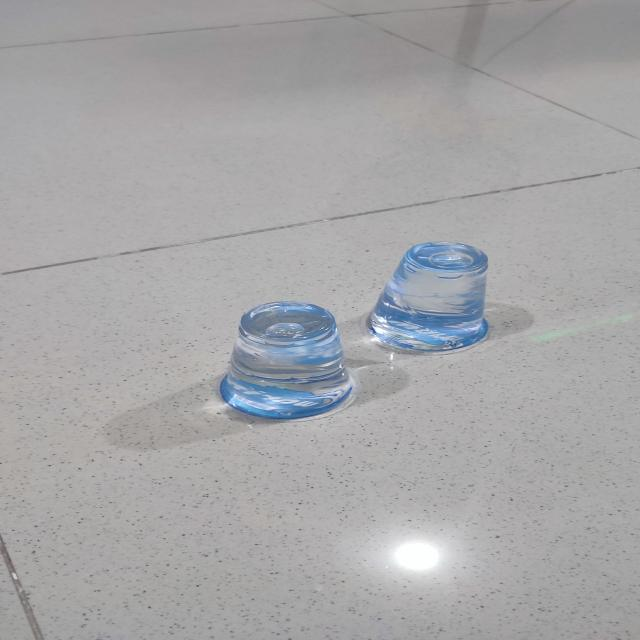air gelas: (209, 294, 364, 431), (366, 214, 500, 358)
